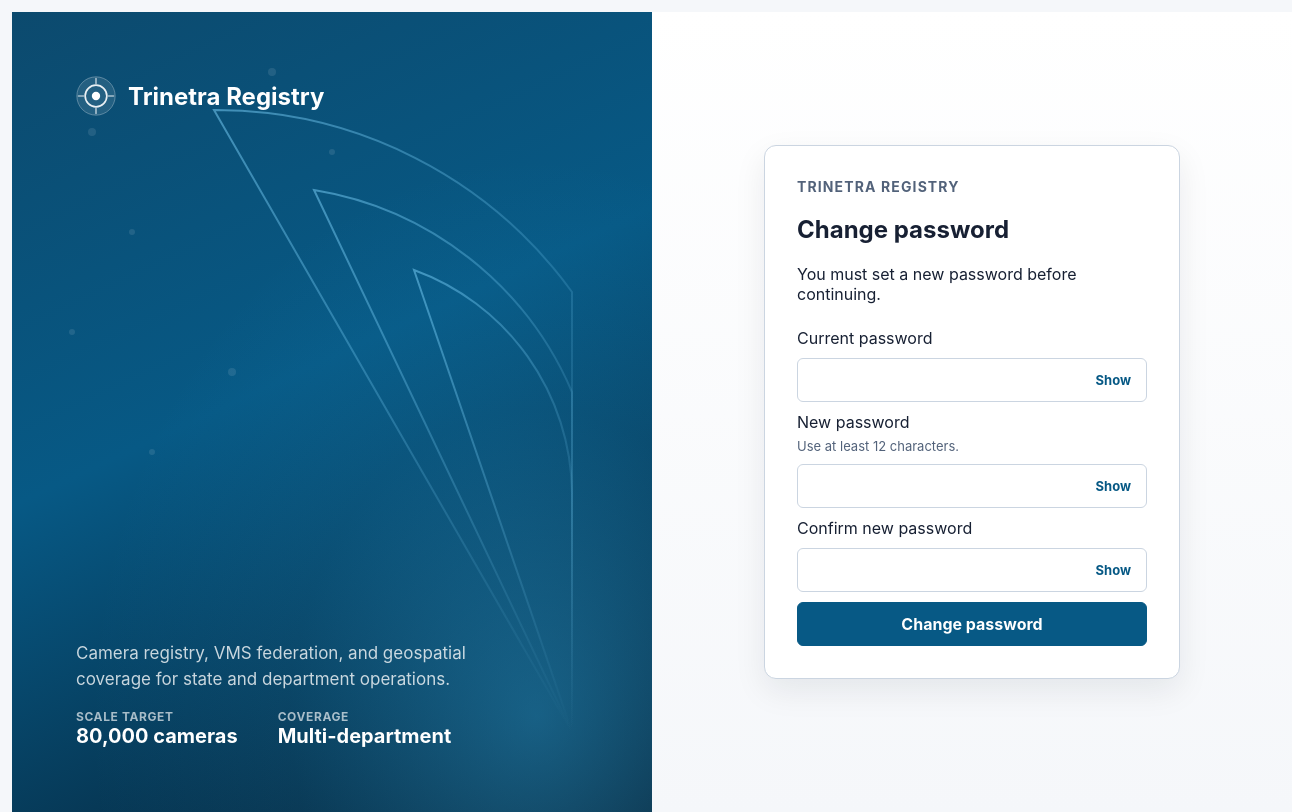
PasswordPage › renders the API problem detail when the server rejects a password
Type "current-secret" into the password field labelled "Current password". click: (972, 380)
box: x1=797 y1=358 x2=1147 y2=402
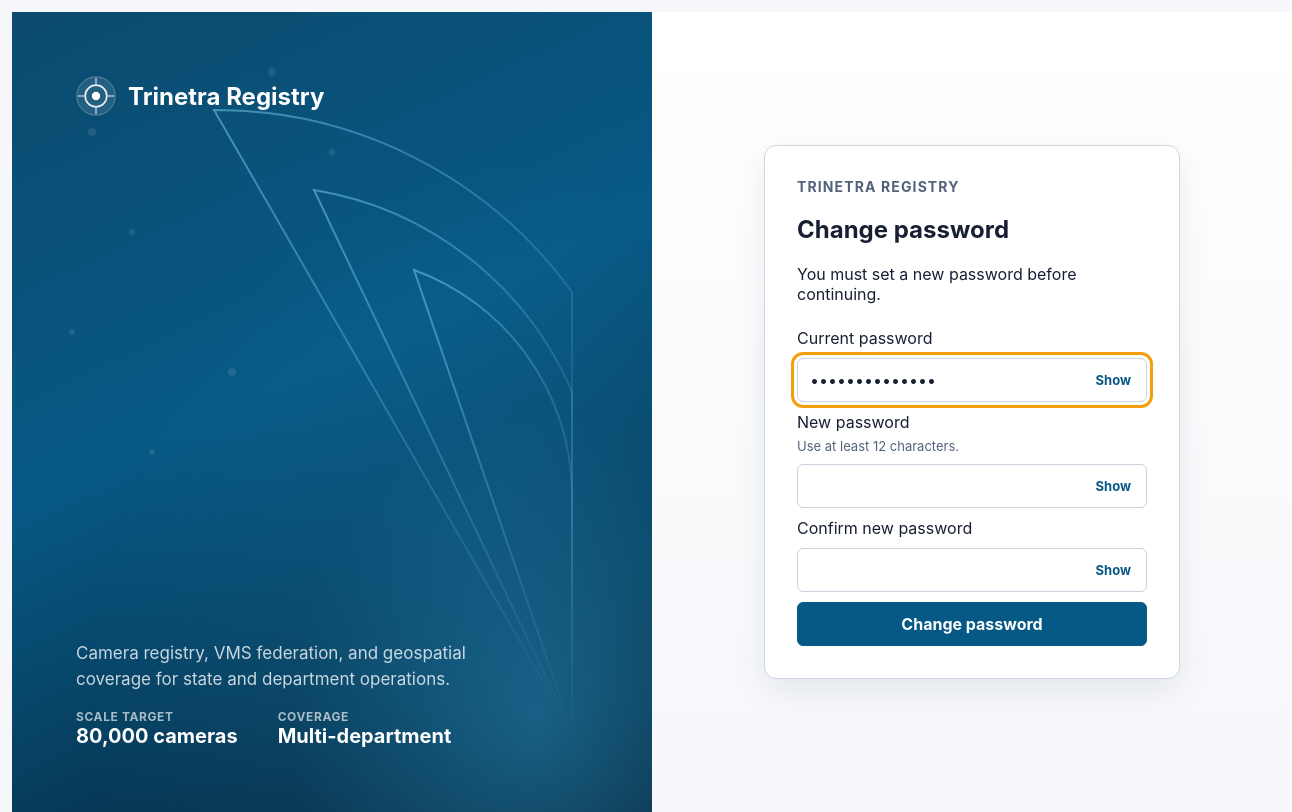
Type "new-secret" into the password field labelled "New password". click: (972, 486)
box: x1=797 y1=464 x2=1147 y2=508
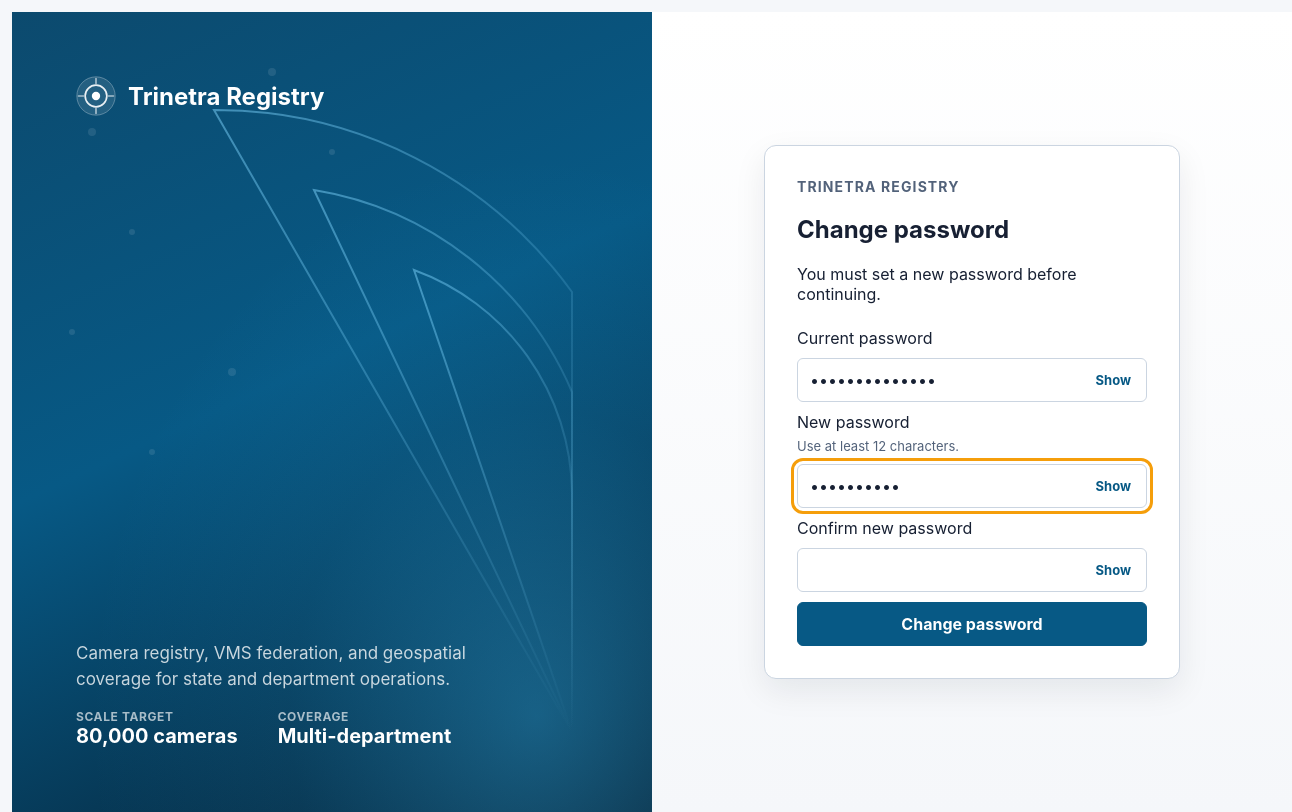
Type "new-secret" into the password field labelled "Confirm new password". click: (972, 570)
box: x1=797 y1=548 x2=1147 y2=592
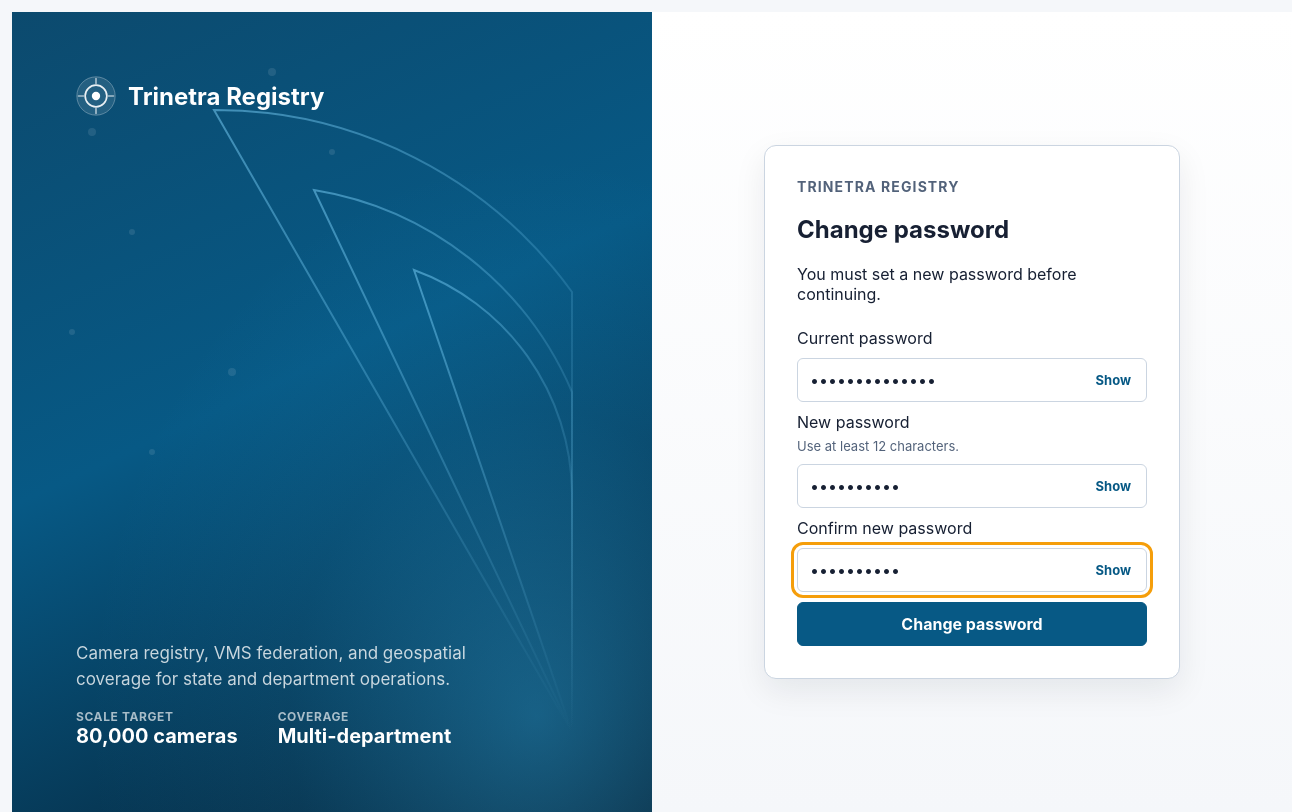
Click the button "Change password". click: (972, 624)
box: x1=797 y1=602 x2=1147 y2=646
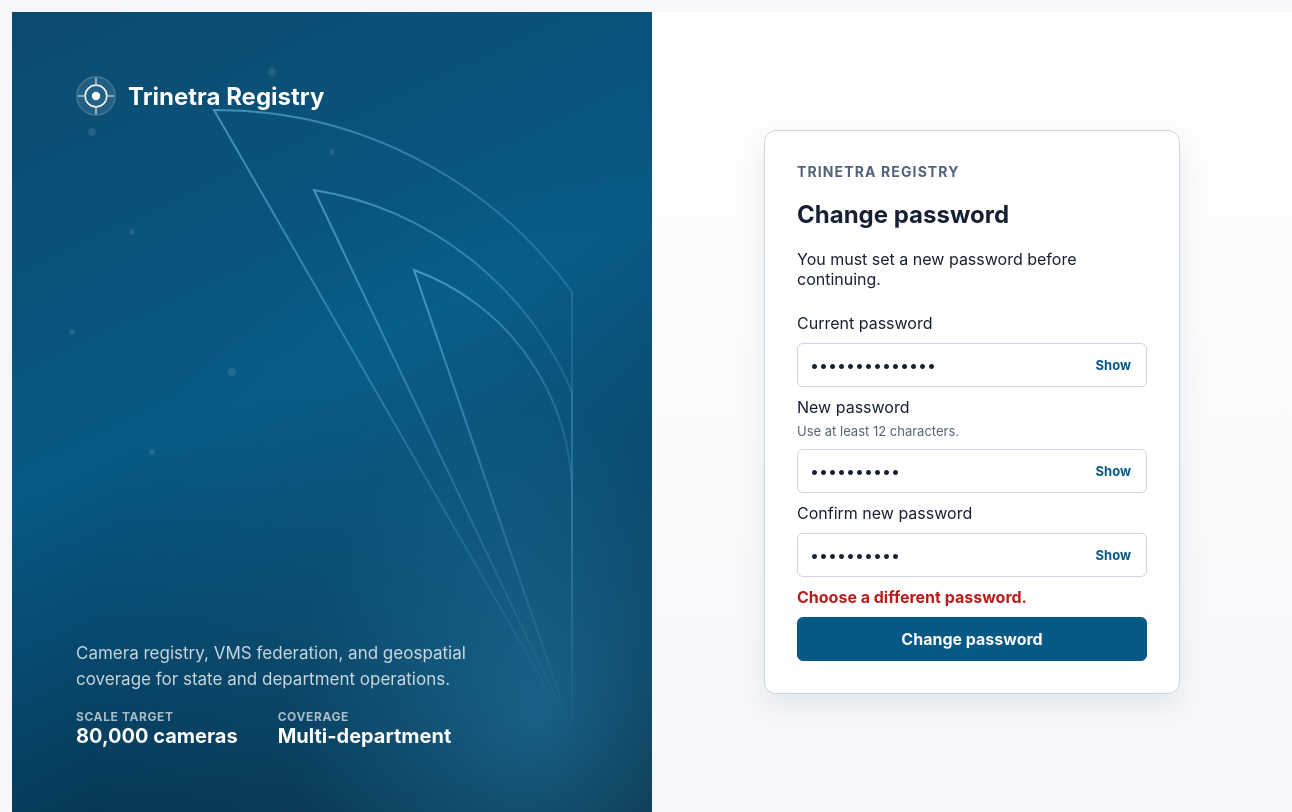
Expected: the message reads "Choose a different password.", x1=797 y1=587 x2=1027 y2=607
